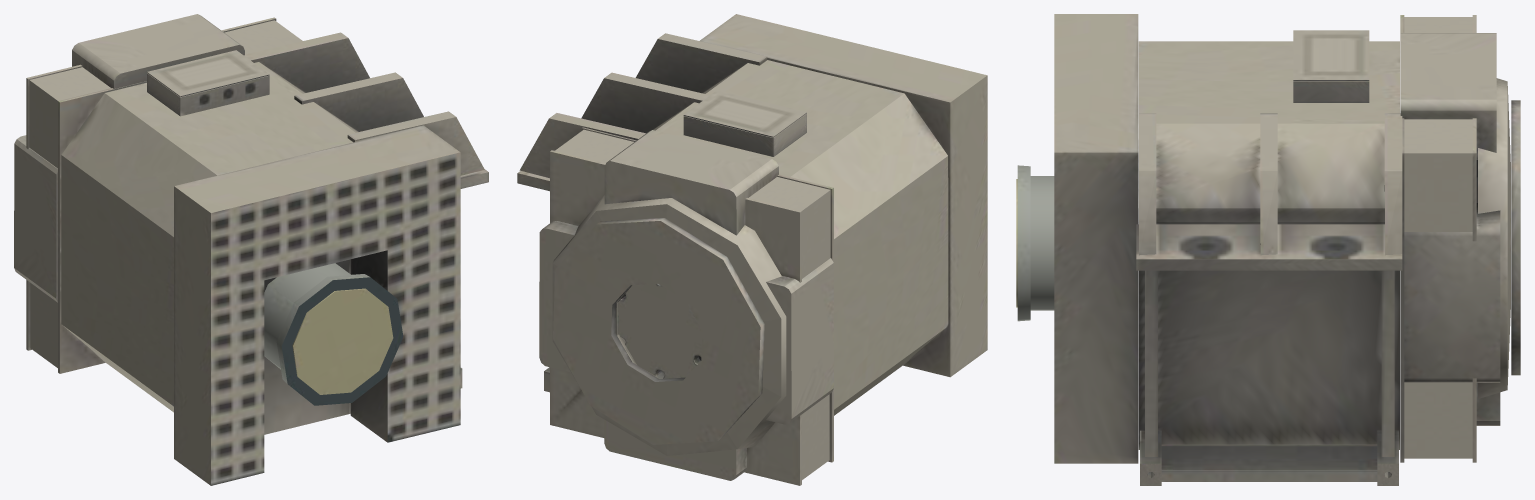
The model's file is dianji.FBX.
The picture shows the model from 3 angles, left to right: view 1: azimuth 30°, elevation 25°; view 2: azimuth 150°, elevation 25°; view 3: azimuth 270°, elevation 25°; orthographic projection. The views are drawn at different scales.
Parts seen in each view (by area): view 1: Object049; view 2: Object049; view 3: Object049.
Part boxes in pixels (<box>): Object049: <box>14,14,488,485</box>; Object049: <box>517,14,987,485</box>; Object049: <box>1016,14,1520,485</box>.
Bounding box in the file's own units: 0.6984 × 0.6269 × 0.8496.
